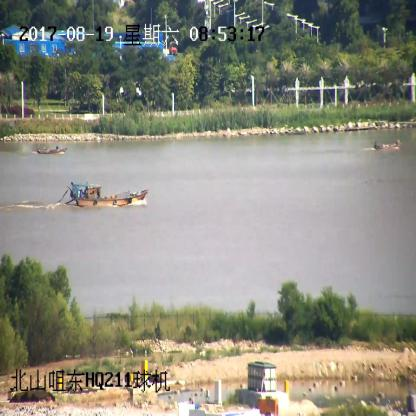Fishing Boat: (67, 179, 148, 207), (374, 139, 402, 151), (38, 145, 67, 155)
